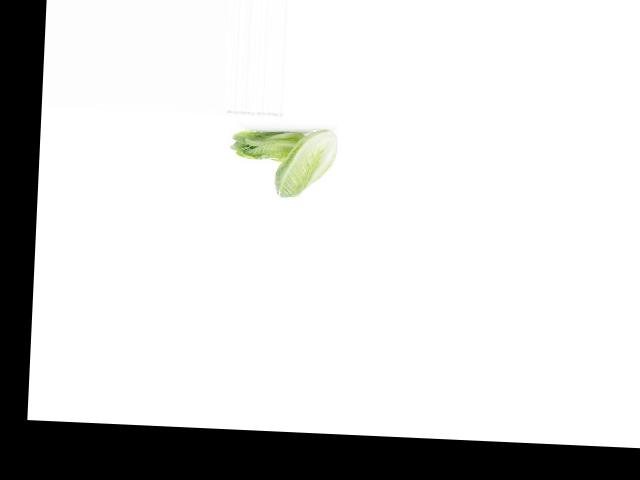lettuce: (230, 119, 305, 169)
